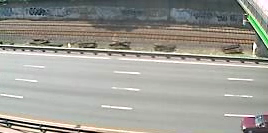car: (237, 113, 267, 133)
